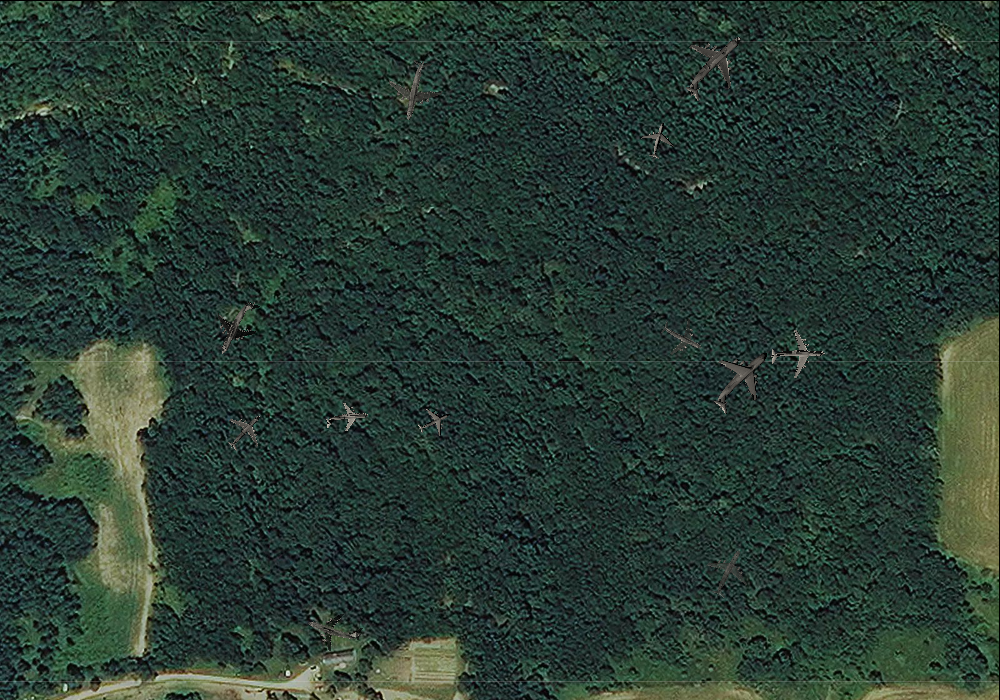plane: (663, 14, 766, 117), (693, 331, 791, 429), (201, 289, 274, 365), (380, 53, 450, 125), (695, 539, 762, 607), (300, 597, 368, 661), (215, 402, 274, 461), (653, 308, 711, 366), (770, 328, 825, 380), (636, 117, 680, 162), (412, 400, 456, 443), (324, 399, 369, 438)
